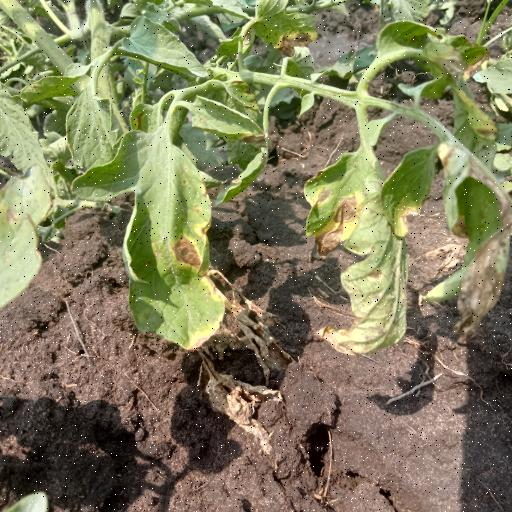Tomato_Brown_Spots: (66, 112, 235, 356), (299, 137, 420, 360), (427, 123, 512, 330)
